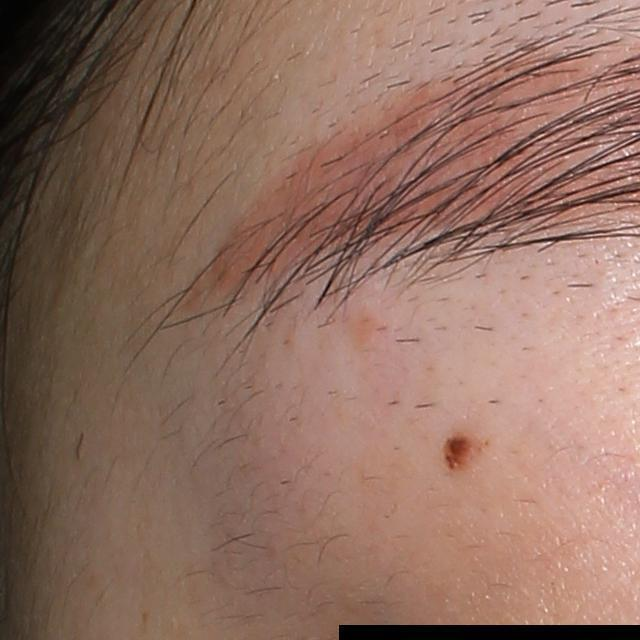nevus: (440, 428, 490, 475)
